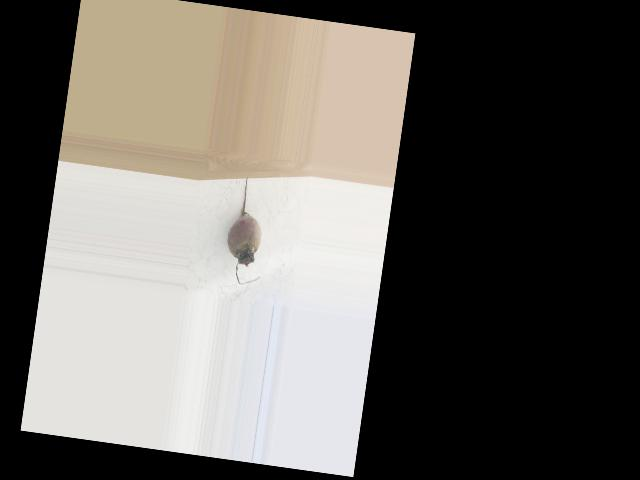beet: (221, 174, 273, 286)
